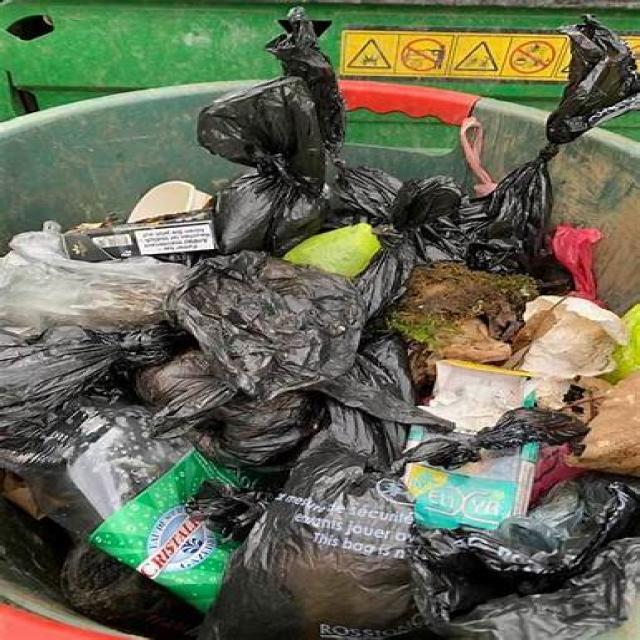Garbage: (2, 14, 639, 640)
Plastic_Bag: (136, 10, 639, 639), (2, 325, 183, 465), (0, 234, 186, 329), (551, 224, 604, 306)
